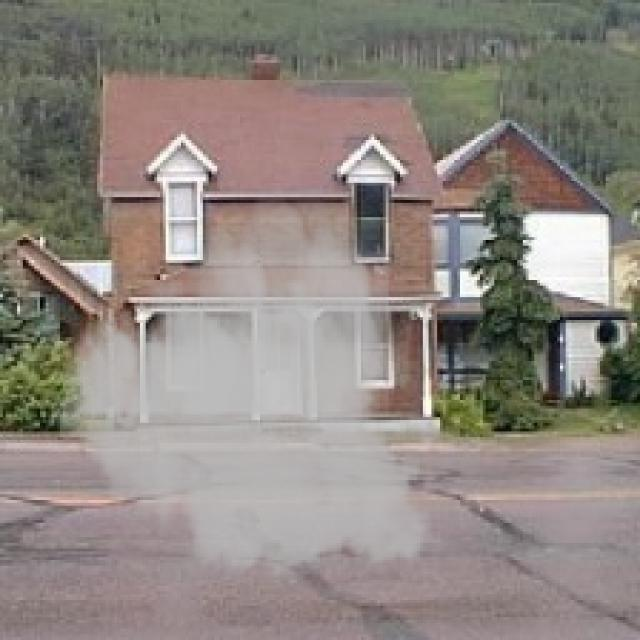Smoke: (39, 188, 452, 592)
